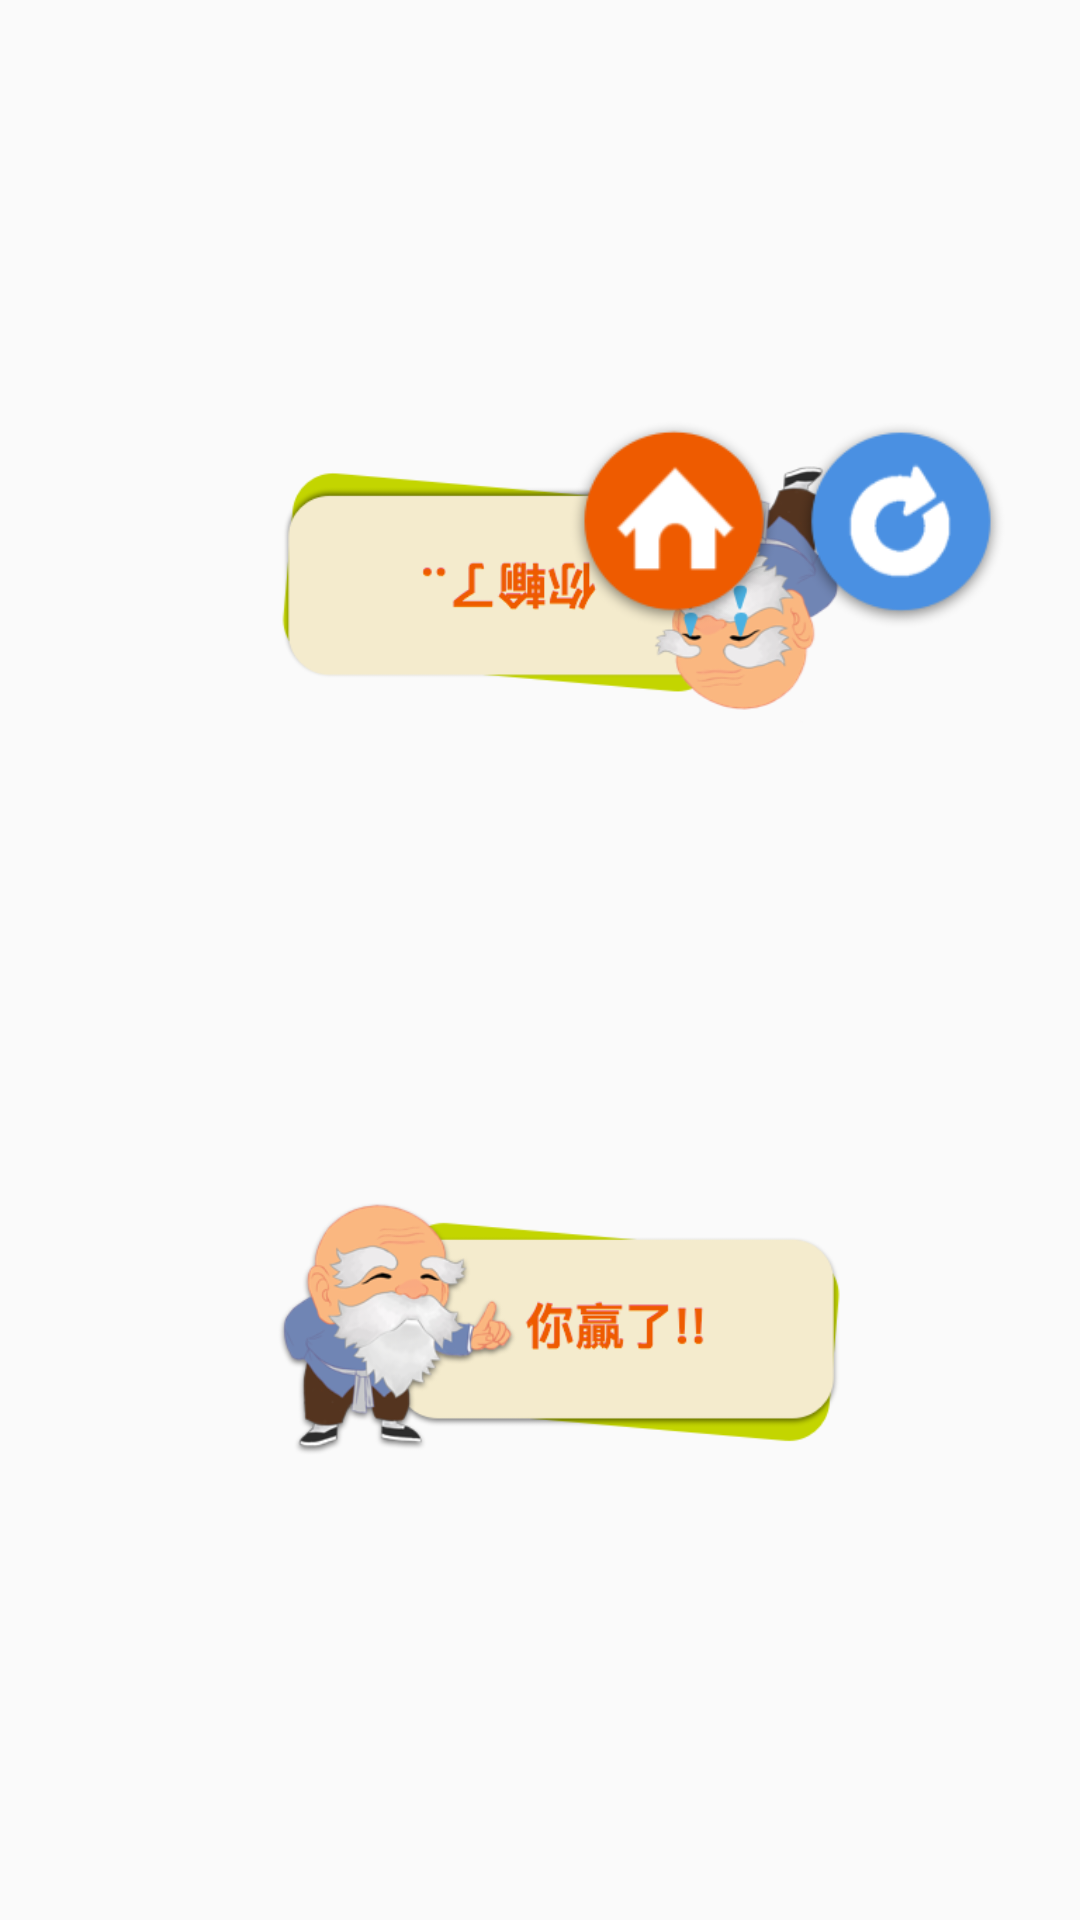

Screen size 1080*1920. Icon name, then its center in pixels as point (x, y):
scoreboard home: point (675, 525)
scoreboard replay: point (895, 530)
